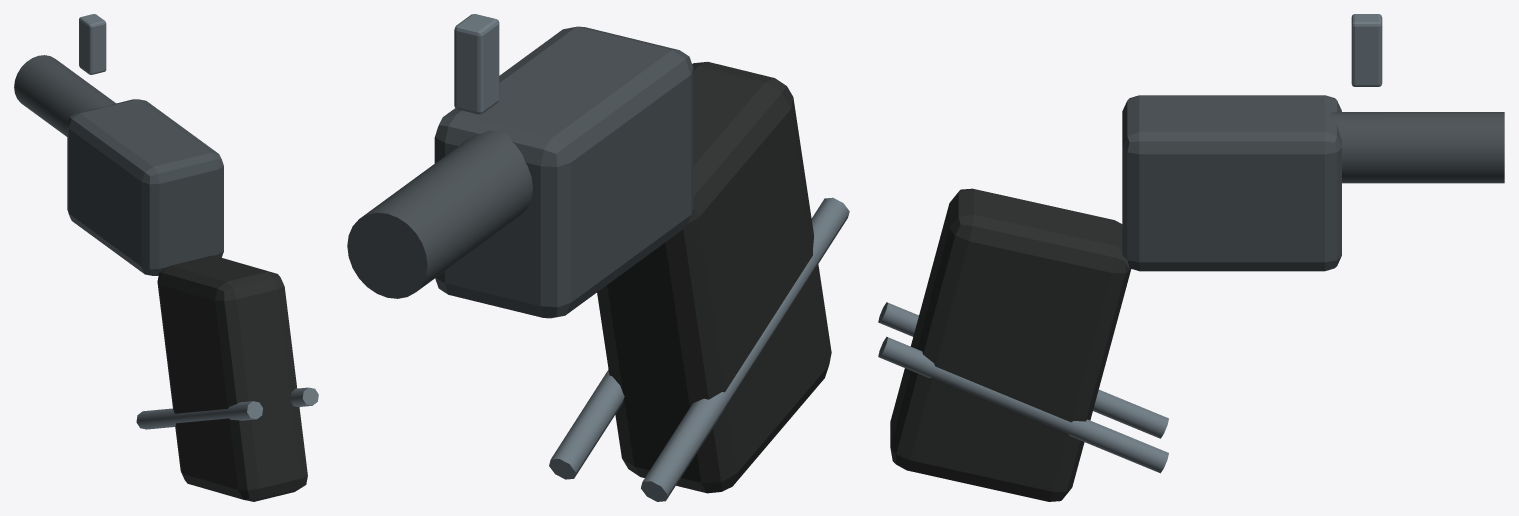
The model's file is HeavyPistol.fbx.
The picture shows the model from 3 angles, left to right: view 1: azimuth 30°, elevation 25°; view 2: azimuth 150°, elevation 25°; view 3: azimuth 270°, elevation 25°; orthographic projection. The views are drawn at different scales.
Visible parts, largest first — view 1: Body.023; view 2: Body.023; view 3: Body.023.
Part boxes in pixels (bbox=[...]): Body.023: bbox=[14, 14, 318, 501]; Body.023: bbox=[347, 14, 849, 501]; Body.023: bbox=[878, 14, 1504, 501].
Bounding box in the file's own units: 0.07 × 0.3048 × 0.3679.
